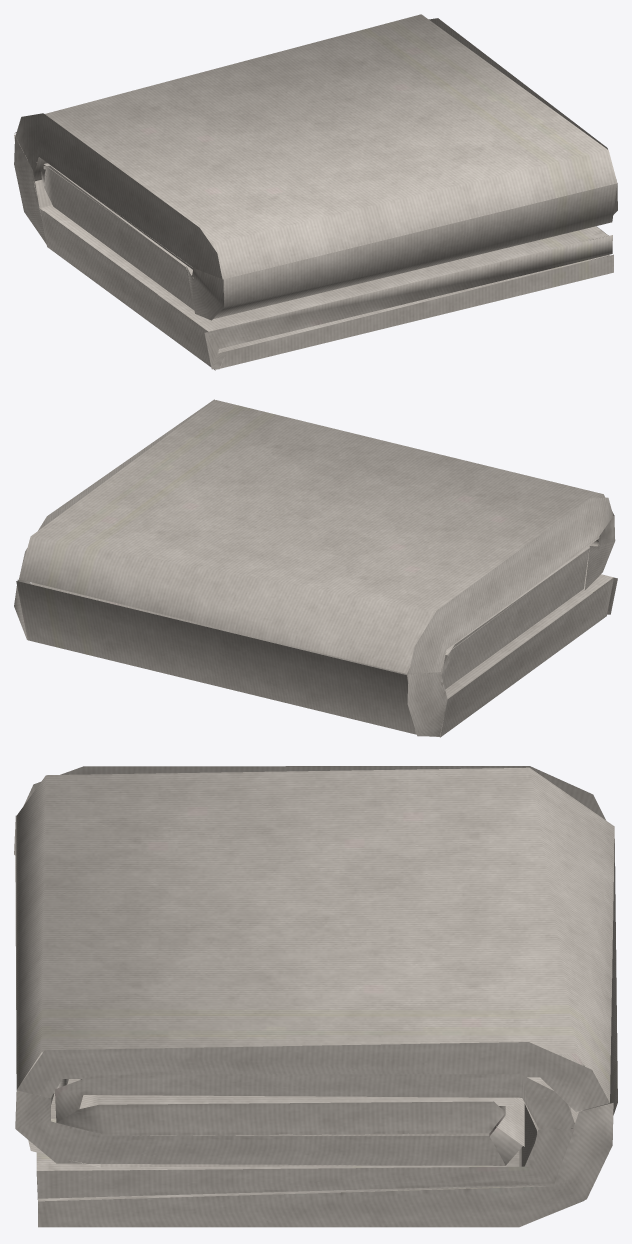
The picture shows the model from 3 angles, top to bottom: view 1: azimuth 30°, elevation 25°; view 2: azimuth 150°, elevation 25°; view 3: azimuth 270°, elevation 25°; orthographic projection. The views are drawn at different scales.
Parts seen in each view (by area): view 1: Plane; view 2: Plane; view 3: Plane.
Part boxes in pixels (x1,y1,x2,y2): Plane: (14,14,617,370); Plane: (14,399,617,737); Plane: (14,766,617,1227).
Size of the model in its own units: 306 by 93.52 by 273.
Materials: 1 (1 with a texture image).
